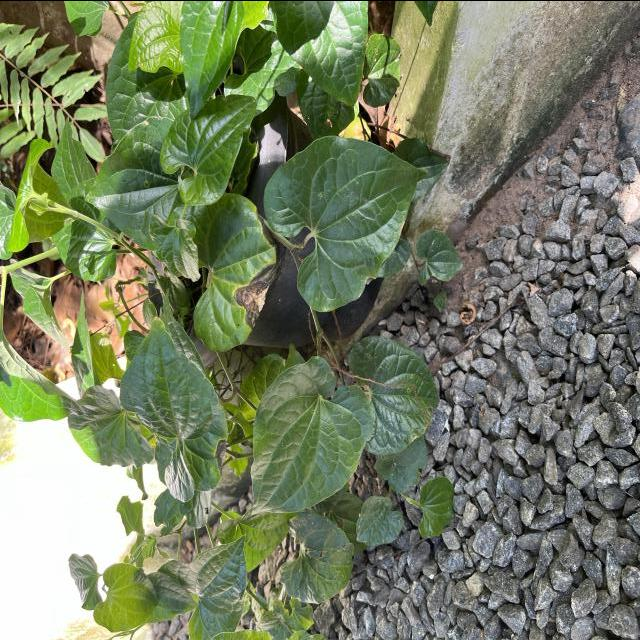Piper longum: (262, 133, 430, 314), (246, 352, 375, 517), (346, 332, 444, 457), (159, 91, 261, 208), (156, 529, 248, 640), (91, 559, 161, 634)
